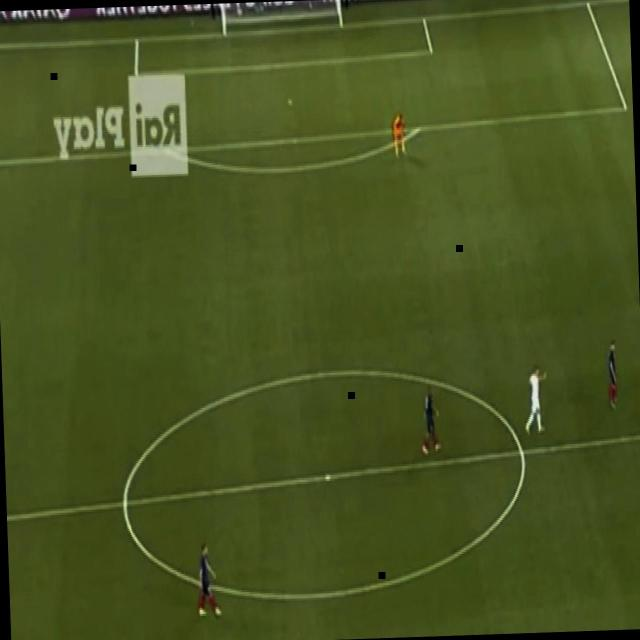player-white: (193, 539, 224, 625), (521, 362, 553, 438), (418, 380, 444, 462), (606, 338, 622, 416), (390, 106, 410, 162)
